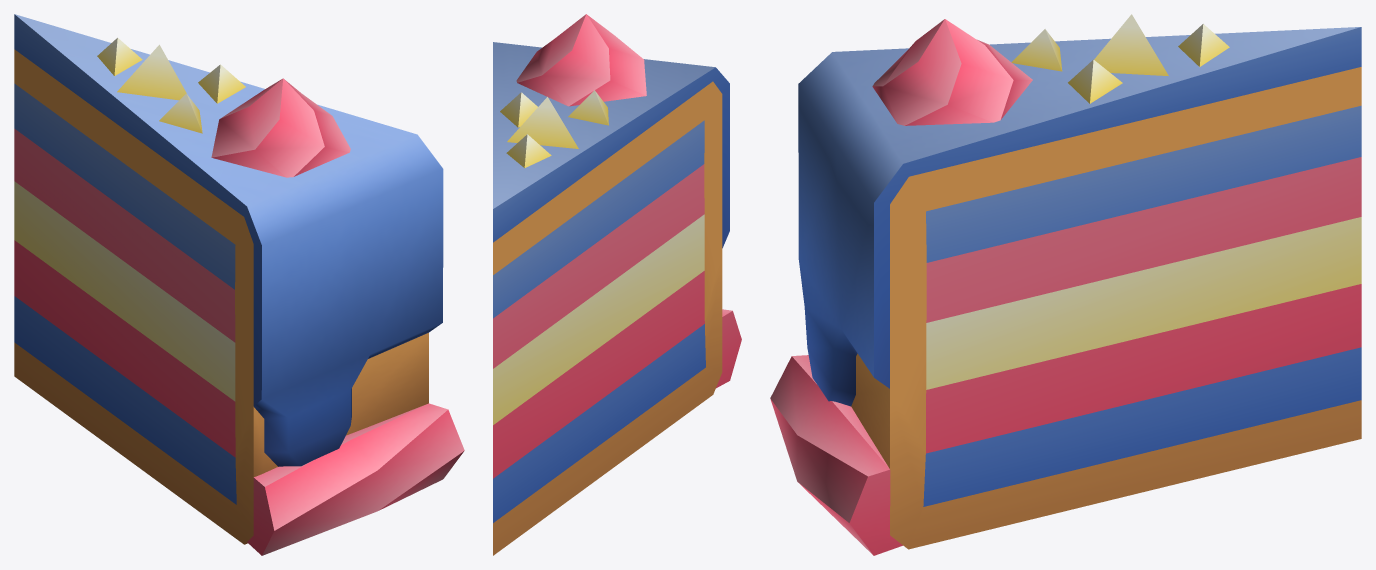
Rendered from m_TransCake01_Slice02.fbx.
The picture shows the model from 3 angles, left to right: view 1: azimuth 30°, elevation 25°; view 2: azimuth 150°, elevation 25°; view 3: azimuth 270°, elevation 25°; orthographic projection. The views are drawn at different scales.
Parts seen in each view (by area): view 1: m_TransCake01_Slice02; view 2: m_TransCake01_Slice02; view 3: m_TransCake01_Slice02.
Boxes of the visible parts, <box> form: m_TransCake01_Slice02: <box>14,14,464,555</box>; m_TransCake01_Slice02: <box>493,14,741,555</box>; m_TransCake01_Slice02: <box>770,14,1361,555</box>.
Bounding box in the file's own units: 7.6 × 13.31 × 15.21.
